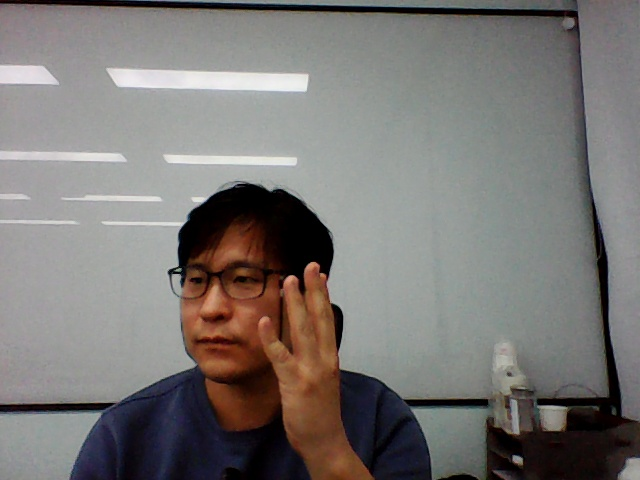four: (249, 255, 356, 458)
